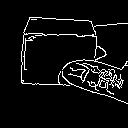cube: (11, 11, 101, 92)
